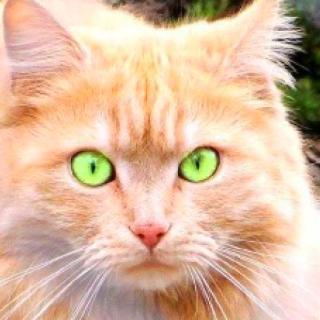cat: (0, 0, 299, 299)
nose: (126, 208, 176, 254)
